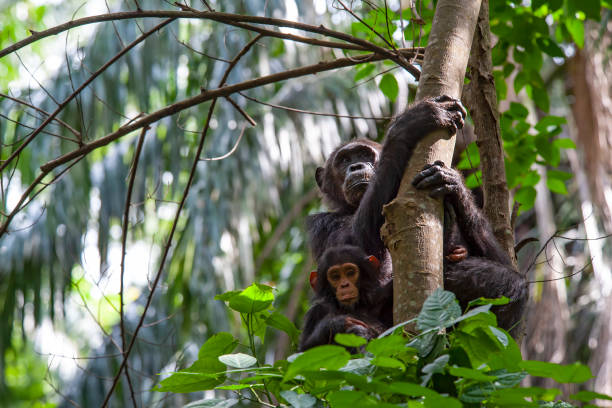chimpanzee: (298, 232, 389, 319), (304, 140, 388, 216)
